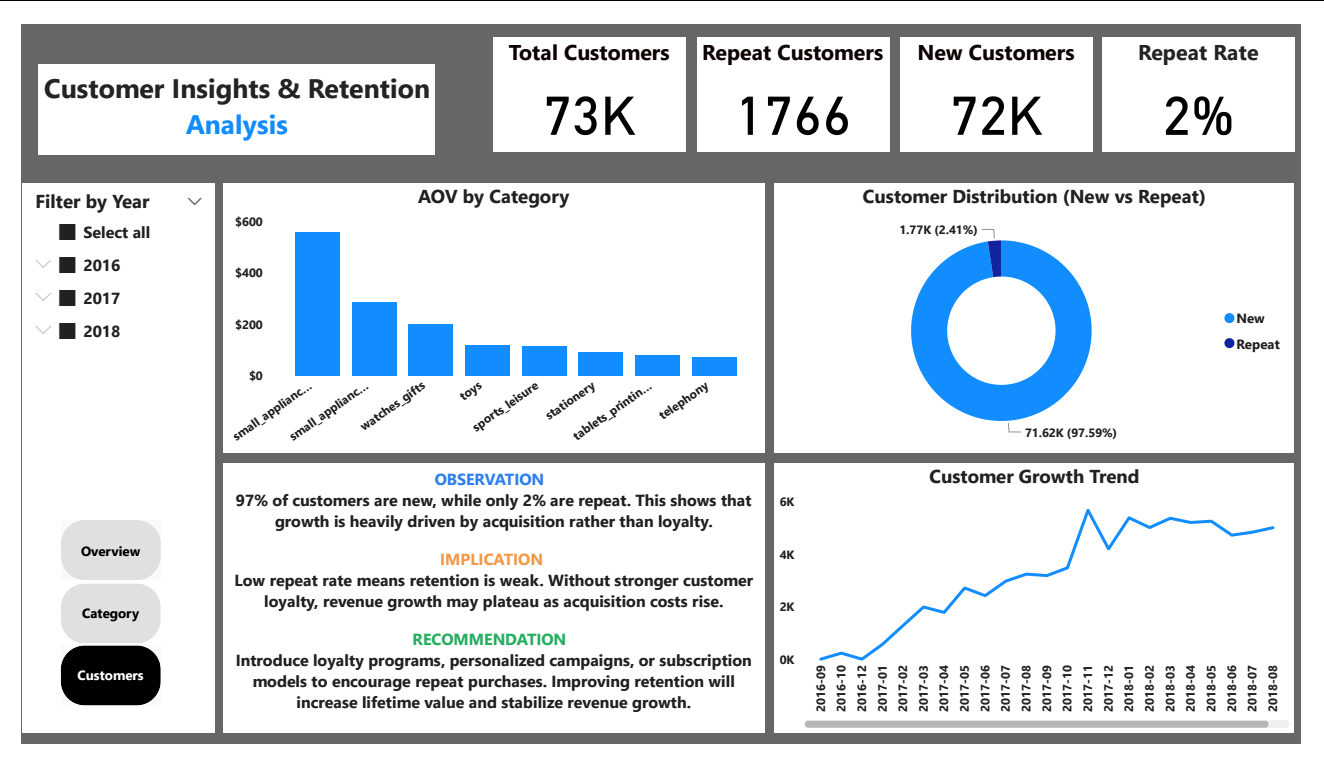

This screenshot's page, from the dashboard's own definition file:
{"tool":"powerbi","page":{"name":"Customers","canvas":[1280,720],"ordinal":2},"visuals":[{"type":"donutChart","title":"Customer Distribution (New vs Repeat)","fields":{"Category":["Order Items Clean.Customer Type"],"Y":["Count(Order Items Clean.customer_unique_id)"]},"box":[753.4,158.9,520,270.2],"z":0},{"type":"clusteredColumnChart","title":"AOV by Category","fields":{"Category":["Order Items Clean.product_category_name_english"],"Y":["Order Items Clean.AOV"]},"box":[201.9,158.9,542,270.2],"z":1000},{"type":"lineChart","title":"Customer Growth Trend","fields":{"Category":["Date.Year-Month"],"Y":["Order Items Clean.Total Customers"]},"box":[754,438.7,520,270.2],"z":2000},{"type":"textbox","box":[17.5,39.7,397.4,90.6],"z":3000},{"type":"card","title":"Total Customers","fields":{"Values":["Order Items Clean.Total Customers1"]},"box":[471.7,13,192.5,114.9],"z":4000},{"type":"card","title":"Repeat Customers","fields":{"Values":["Order Items Clean.Repeat Customers"]},"box":[674.9,13,192.5,114.9],"z":5000},{"type":"card","title":"New Customers","fields":{"Values":["Order Items Clean.New Customers"]},"box":[878.2,13,192.5,114.9],"z":6000},{"type":"card","title":"Repeat Rate  ","fields":{"Values":["Order Items Clean.Repeat Rate %"]},"box":[1081.5,12.8,193,115],"z":7000},{"type":"shape","box":[1.6,158.9,192.3,549.9],"z":8000},{"type":"shape","box":[40.3,495.6,100.1,60.4],"z":9000},{"type":"shape","box":[40.3,558.9,100,60],"z":10000},{"type":"shape","box":[40.3,621.7,100,60],"z":11000},{"type":"slicer","fields":{"Values":["Date.Year","Order Items Clean.product_category_name_english","Date.Month"]},"box":[1.6,158.9,192.3,230.5],"z":12000},{"type":"textbox","box":[201.9,438.7,542,270.2],"z":13000}]}

Visuals, with their boxes in screenshot pixels (x1, y1, x2, y2), scaled from the page's 1280x720 canvas onto the 1324x765 screenshot:
"Customer Distribution (New vs Repeat)" donutChart: 779, 169, 1317, 456
"AOV by Category" clusteredColumnChart: 209, 169, 769, 456
"Customer Growth Trend" lineChart: 780, 466, 1318, 753
textbox: 18, 42, 429, 138
"Total Customers" card: 488, 14, 687, 136
"Repeat Customers" card: 698, 14, 897, 136
"New Customers" card: 908, 14, 1108, 136
"Repeat Rate  " card: 1119, 14, 1318, 136
shape: 2, 169, 201, 753
shape: 42, 527, 145, 591
shape: 42, 594, 145, 658
shape: 42, 661, 145, 724
slicer - Date.Year x Order Items Clean.product_category_name_english: 2, 169, 201, 414
textbox: 209, 466, 769, 753
